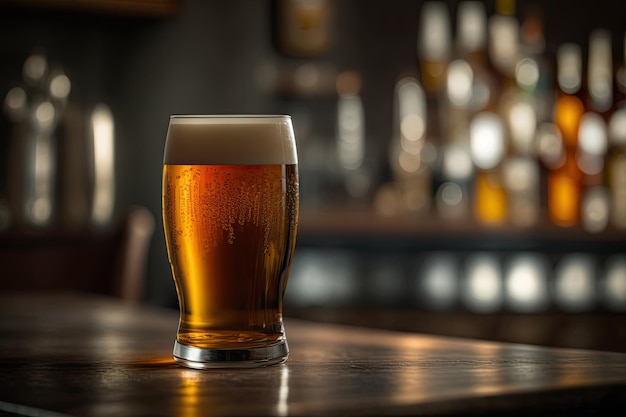alcohol: (156, 114, 302, 371)
